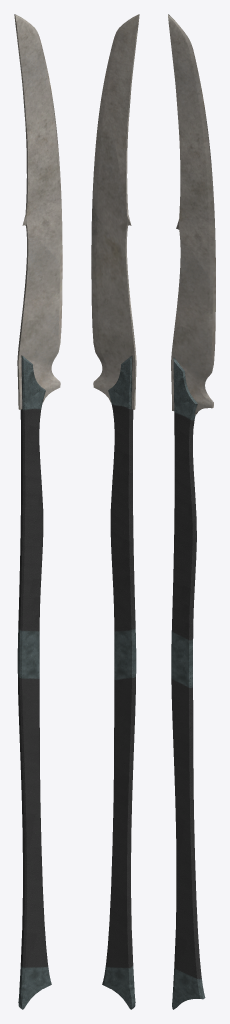
File: spearsword1.glb
3 renders of one model, left to right at view 1: azimuth 30°, elevation 25°; view 2: azimuth 150°, elevation 25°; view 3: azimuth 330°, elevation 25°, orthographic.
Visible parts, largest first — view 1: spearsword1; view 2: spearsword1; view 3: spearsword1.
Boxes of the visible parts, x1,y1,x2,y2 form: spearsword1: [14, 14, 62, 1009]; spearsword1: [91, 14, 139, 1009]; spearsword1: [168, 14, 215, 1009].
Bounding box in the file's own units: 0.0794 × 1.58 × 0.00996.
Materials: 1 (1 with a texture image).
